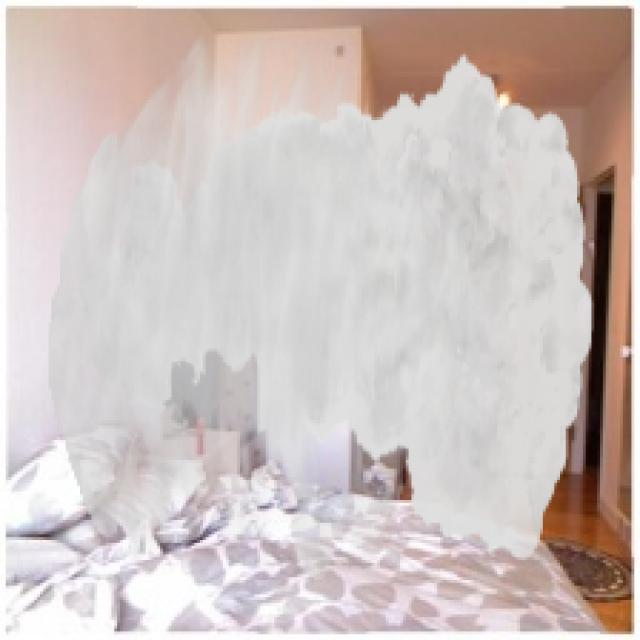smoke: (49, 31, 594, 580)
